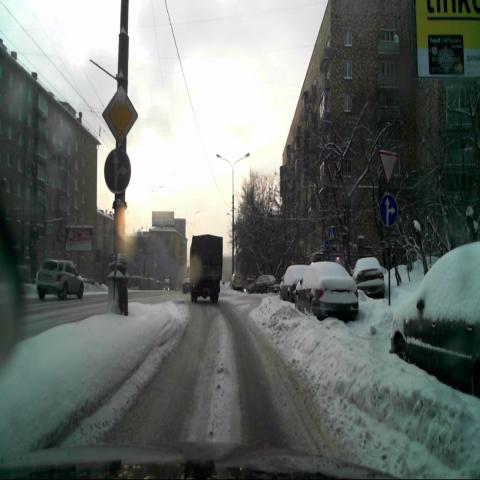4_1_4: (103, 147, 130, 194)
